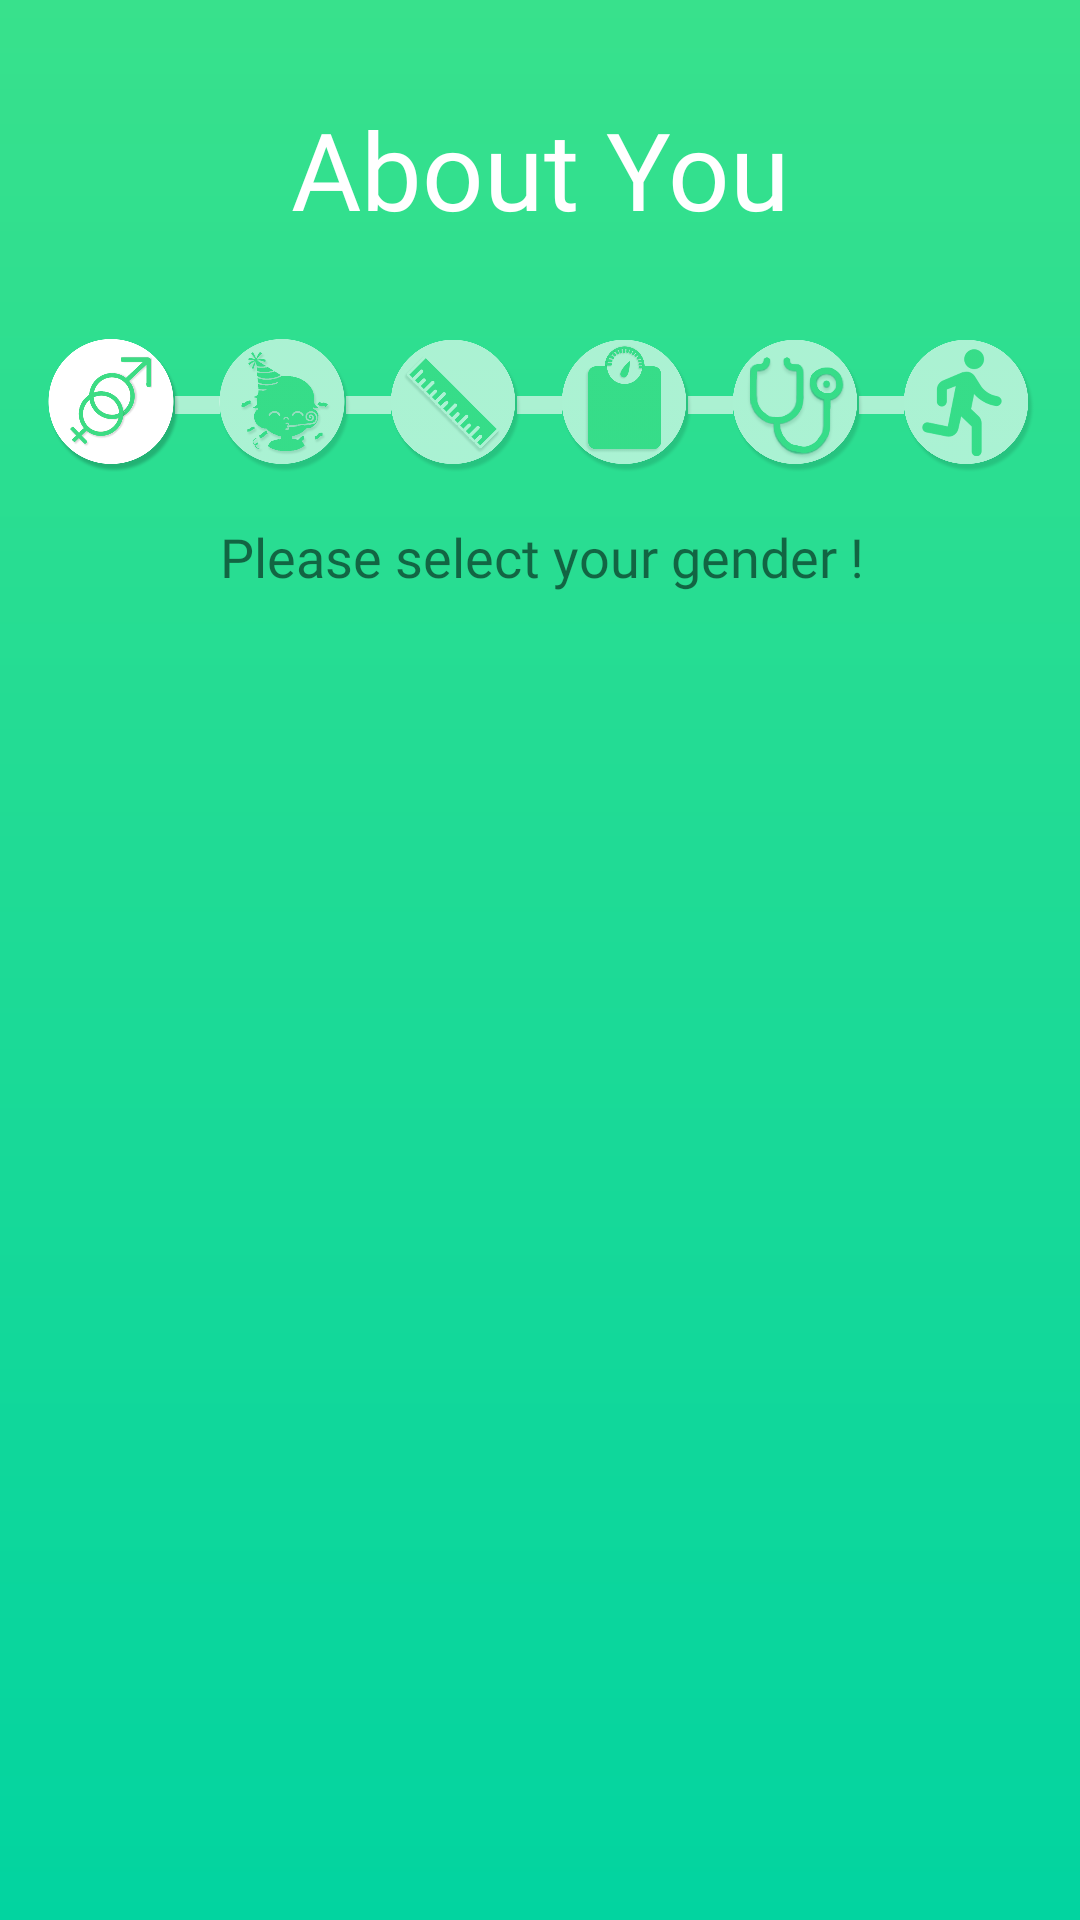

Named icons in this screenshot (1080×1920) and their centers, point (x, y):
activity: point (965, 404)
birthday: point (284, 403)
health history: point (797, 404)
measurement: point (455, 404)
wieght: point (626, 405)
